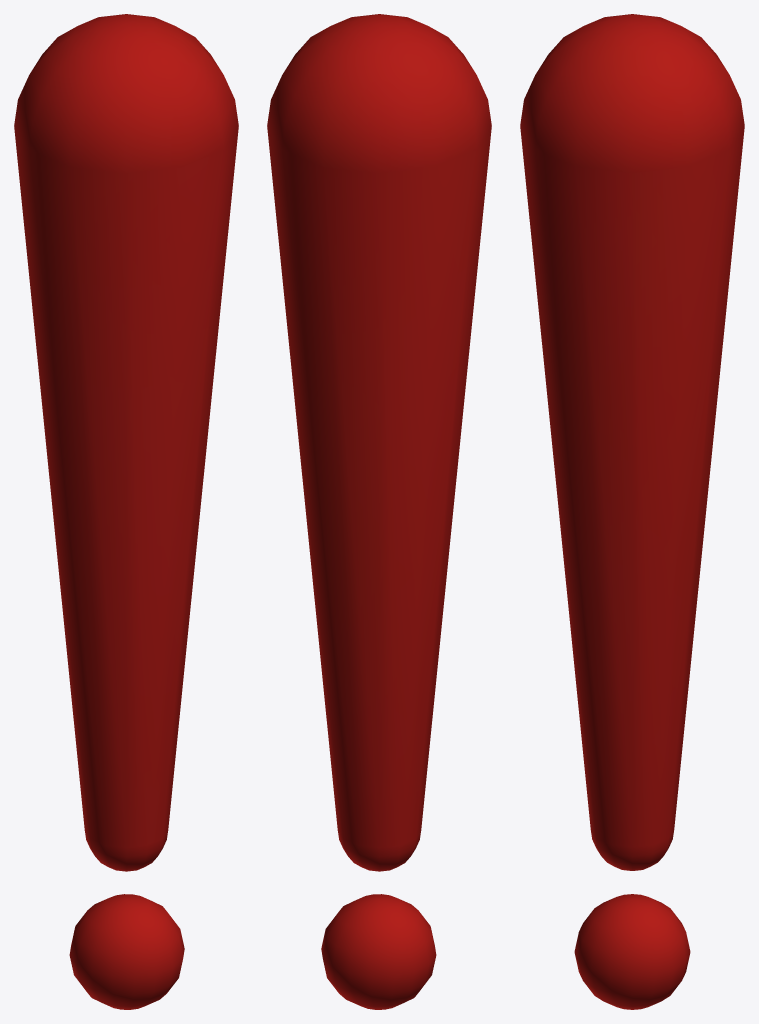
The model's file is Point_dexclamation.FBX.
3 views of the same model, side by side, from view 1: azimuth 30°, elevation 25°; view 2: azimuth 150°, elevation 25°; view 3: azimuth 270°, elevation 25° (orthographic).
Visible parts, largest first — view 1: Capsule001; view 2: Capsule001; view 3: Capsule001.
Part boxes in pixels (bbox=[...]): Capsule001: bbox=[14, 14, 238, 1009]; Capsule001: bbox=[267, 14, 491, 1009]; Capsule001: bbox=[520, 14, 744, 1009].
Bounding box in the file's own units: 3.5 × 16.86 × 3.5.
Materials: 1 (1 with a texture image).
